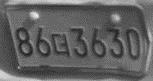0: (125, 27, 142, 59)
3: (69, 26, 89, 58), (106, 26, 124, 58)
6: (35, 25, 53, 58), (89, 26, 107, 58)
8: (14, 26, 34, 56)
더: (49, 31, 72, 58)
